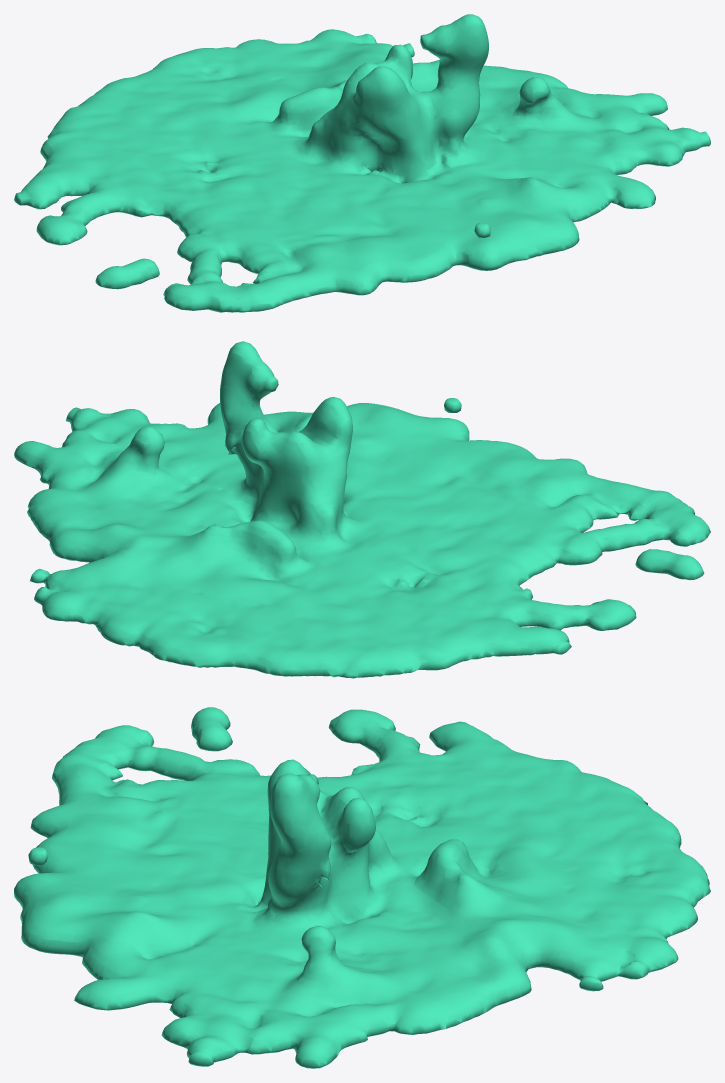
The picture shows the model from 3 angles, top to bottom: view 1: azimuth 30°, elevation 25°; view 2: azimuth 150°, elevation 25°; view 3: azimuth 270°, elevation 25°; orthographic projection. The views are drawn at different scales.
Visible parts, largest first — view 1: Liquid_Domain; view 2: Liquid_Domain; view 3: Liquid_Domain.
Part boxes in pixels (box(x1,y1,x2,y2)): Liquid_Domain: box(14, 14, 710, 312); Liquid_Domain: box(14, 341, 710, 678); Liquid_Domain: box(14, 707, 710, 1068).
Size of the model in its own units: 18.96 by 4.49 by 15.85.
